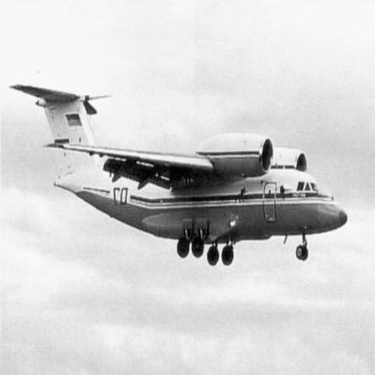airplane: (1, 52, 356, 279)
